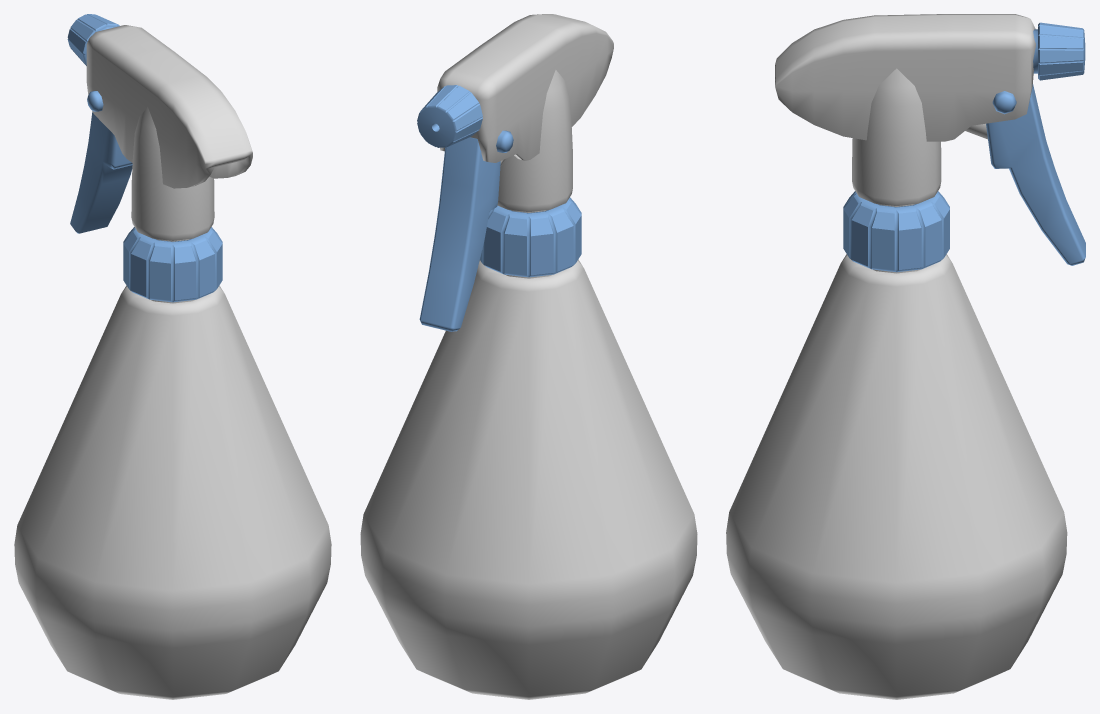
The model's file is MOD_SprayBottle.fbx.
The picture shows the model from 3 angles, left to right: view 1: azimuth 30°, elevation 25°; view 2: azimuth 150°, elevation 25°; view 3: azimuth 270°, elevation 25°; orthographic projection. The views are drawn at different scales.
Visible parts, largest first — view 1: MOD_Spray_Bottle, MOD_Spray_Handle; view 2: MOD_Spray_Bottle, MOD_Spray_Handle; view 3: MOD_Spray_Bottle, MOD_Spray_Handle.
Boxes of the visible parts, <box> form: MOD_Spray_Bottle: <box>14,14,331,699</box>; MOD_Spray_Handle: <box>70,91,132,233</box>; MOD_Spray_Bottle: <box>360,14,697,699</box>; MOD_Spray_Handle: <box>419,130,513,331</box>; MOD_Spray_Bottle: <box>726,14,1085,699</box>; MOD_Spray_Handle: <box>965,84,1085,265</box>.
Size of the model in its own units: 5.47 by 11.13 by 5.77.
